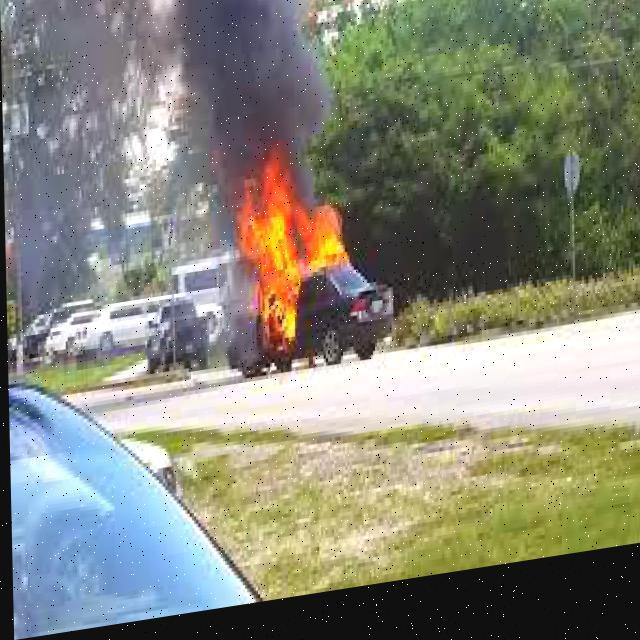Fire: (228, 148, 351, 357)
